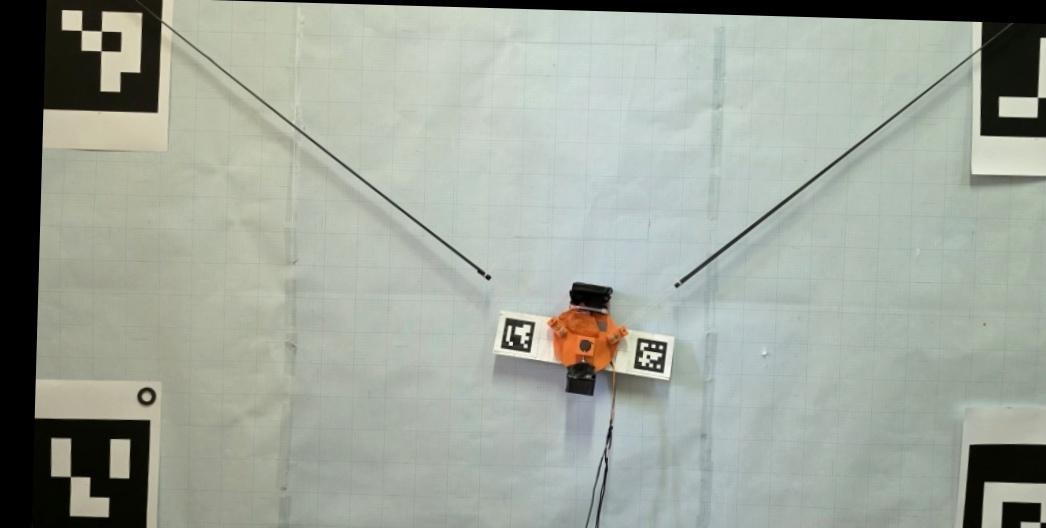robot: (547, 280, 630, 398)
